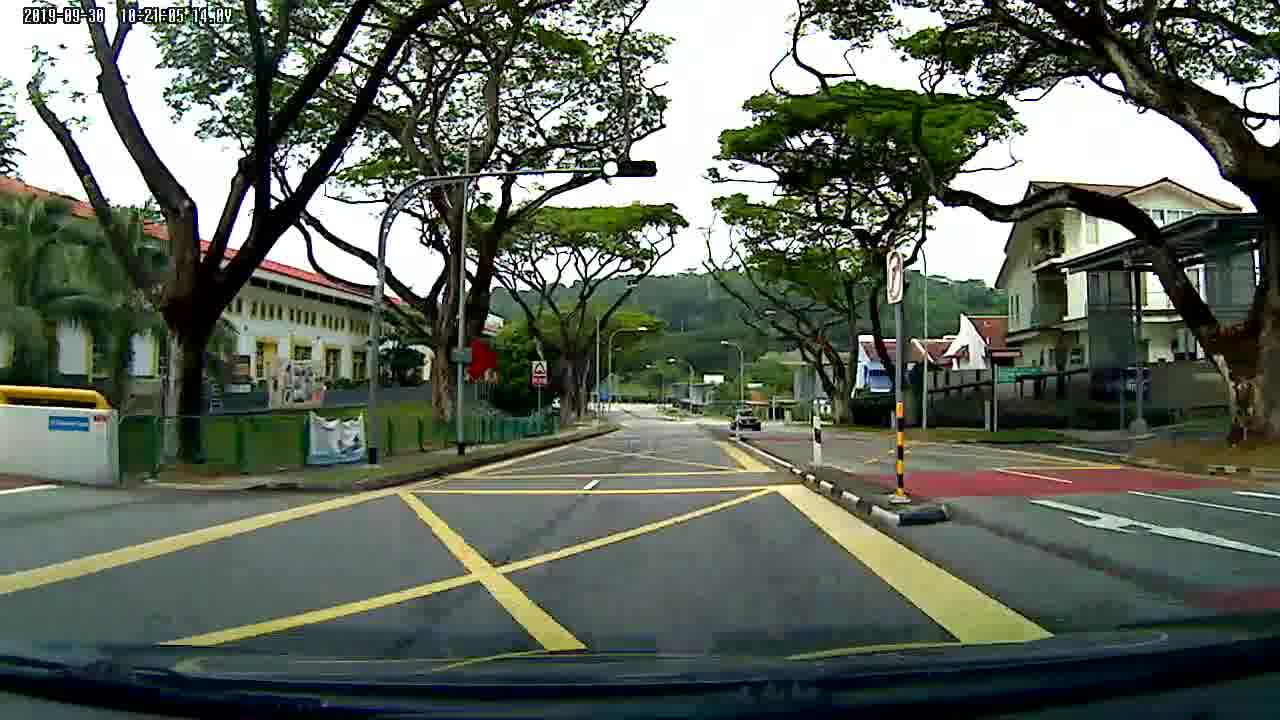car: (727, 407, 764, 433)
